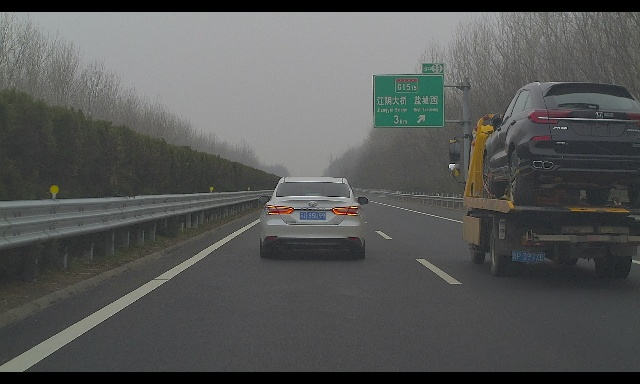car: (258, 177, 369, 259)
truck: (448, 82, 640, 276)
